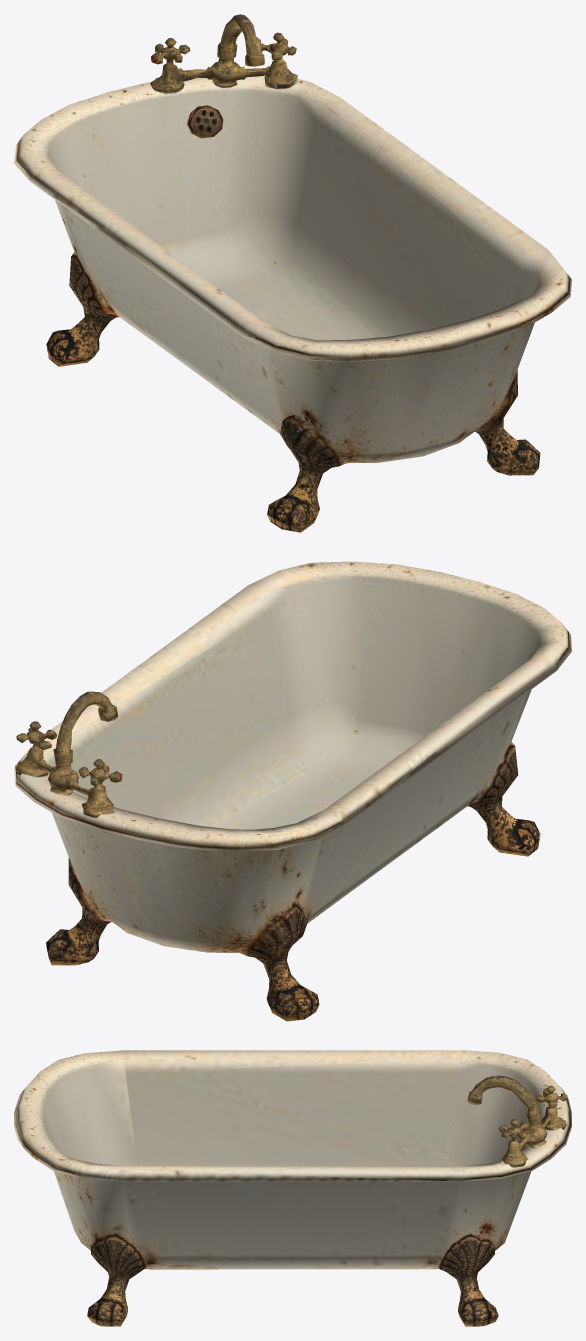
The model's file is bathtub.glb.
The picture shows the model from 3 angles, top to bottom: view 1: azimuth 30°, elevation 25°; view 2: azimuth 150°, elevation 25°; view 3: azimuth 270°, elevation 25°; orthographic projection. The views are drawn at different scales.
Parts seen in each view (by area): view 1: Mesh_0; view 2: Mesh_0; view 3: Mesh_0.
Part boxes in pixels (left/top/right/bottom): Mesh_0: left=14, top=14, right=571, bottom=532; Mesh_0: left=14, top=561, right=571, bottom=1021; Mesh_0: left=14, top=1050, right=571, bottom=1326.
Size of the model in its own units: 0.9016 by 0.7741 by 1.7.
1 material, 1 textured.
